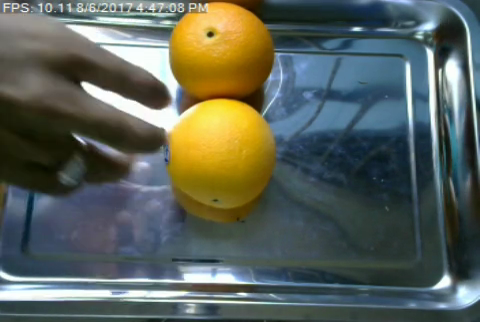Orange: (166, 98, 276, 208), (167, 0, 274, 100)
